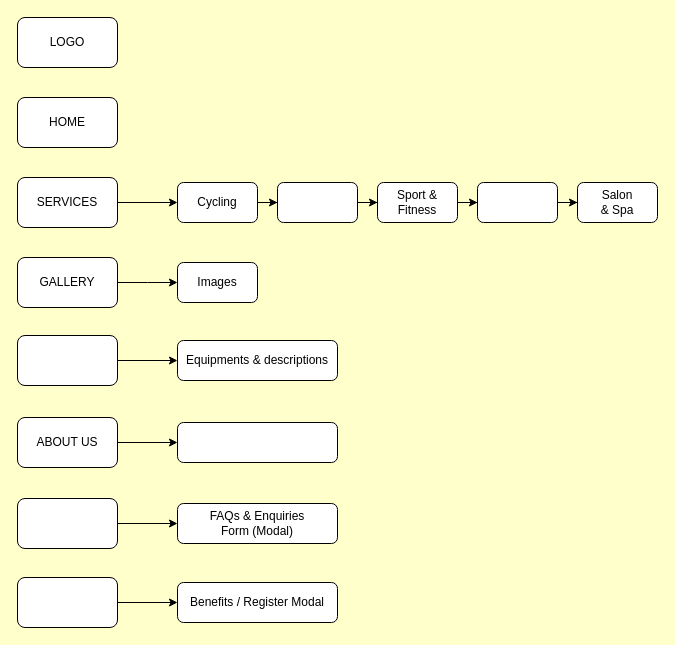
Image size: 675x645. Some labels were removed from this diagram. Each missing label, with the centre of its shape:
"Contact & Location" goes at [257,442].
"EQUIPMENTS" goes at [67,360].
"Group Exercise" goes at [517,202].
"MEMBERSHIP" goes at [67,602].
"Swimming" goes at [317,202].
"YOUR CONCERN" goes at [67,523].
